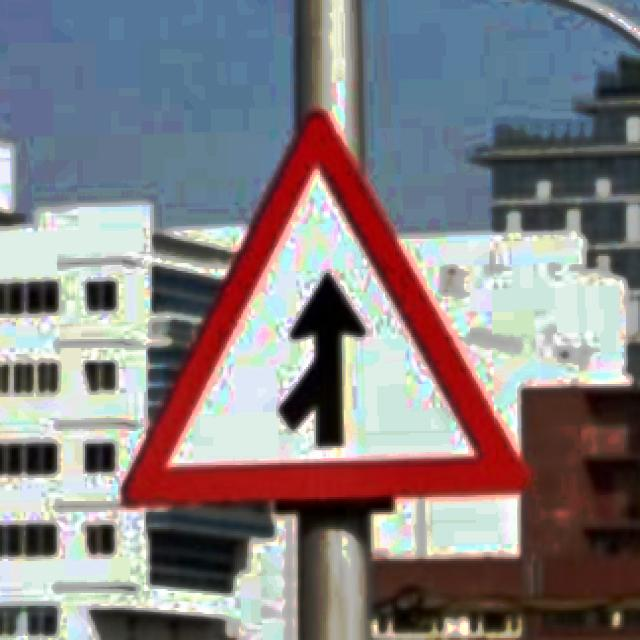leftmerge: (119, 104, 532, 510)
